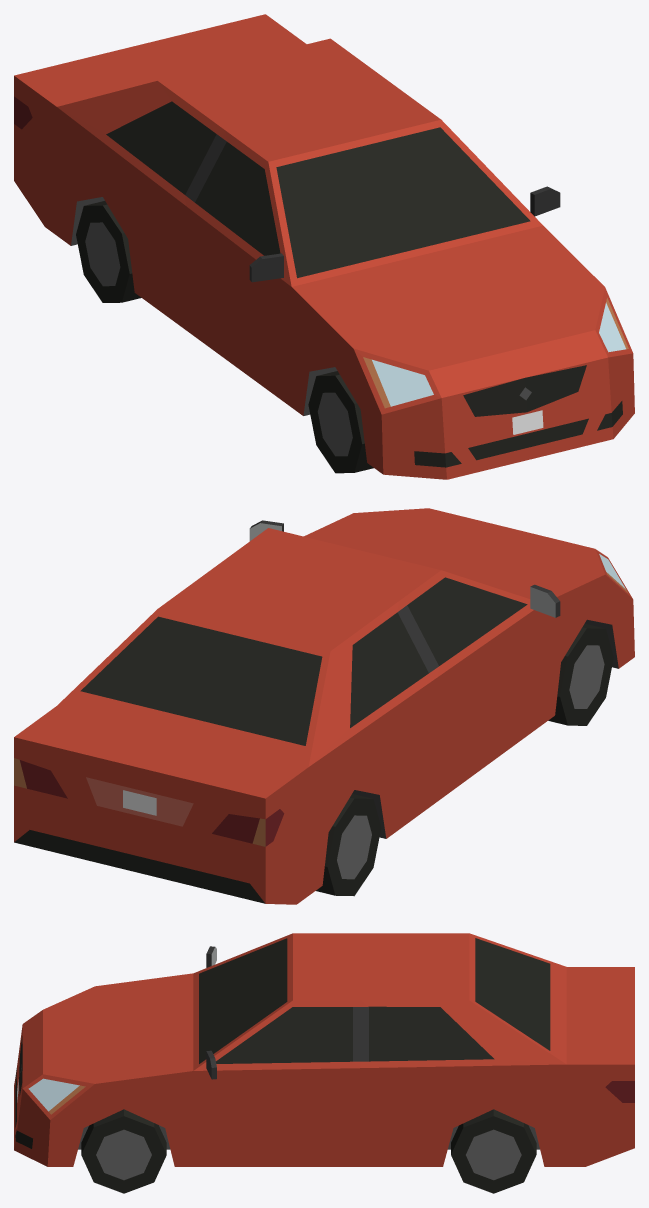
Rendered from Veh_Sedan_03_Red.obj.
3 renders of one model, top to bottom at view 1: azimuth 30°, elevation 25°; view 2: azimuth 150°, elevation 25°; view 3: azimuth 270°, elevation 25°, orthographic. The views are drawn at different scales.
Bounding box in the file's own units: 1.19 × 0.8272 × 2.61.
